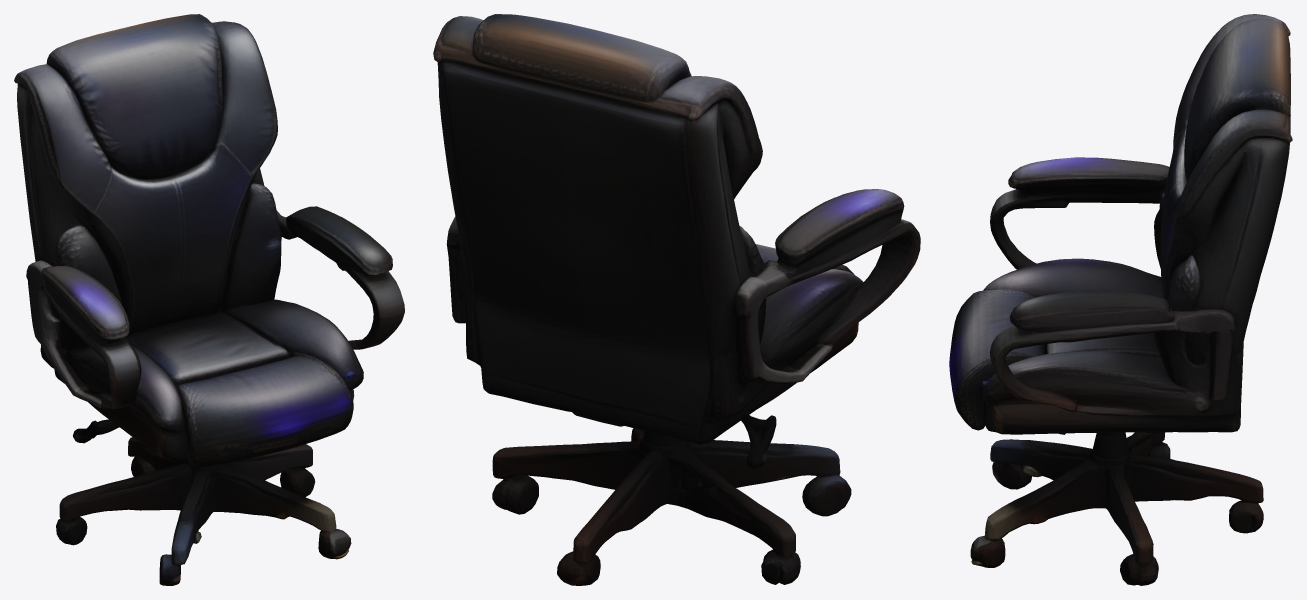
The model's file is Chair.glb.
3 views of the same model, side by side, from view 1: azimuth 30°, elevation 25°; view 2: azimuth 150°, elevation 25°; view 3: azimuth 270°, elevation 25° (orthographic). The views are drawn at different scales.
Parts seen in each view (by area): view 1: world; view 2: world; view 3: world.
Boxes of the visible parts, bbox=[...] form: world: bbox=[14, 14, 404, 585]; world: bbox=[433, 14, 920, 585]; world: bbox=[949, 14, 1292, 585].
Bounding box in the file's own units: 0.6966 × 1 × 0.6544.
Materials: 1 (1 with a texture image).
